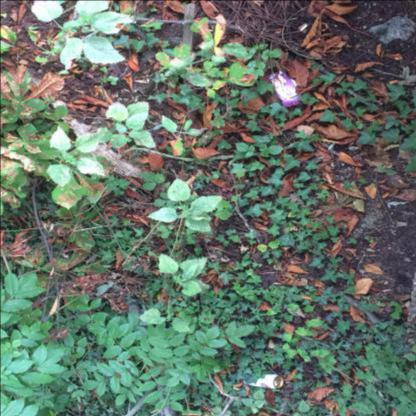Can: (244, 374, 284, 389)
Plastic bag - wrapper: (265, 70, 301, 107)
